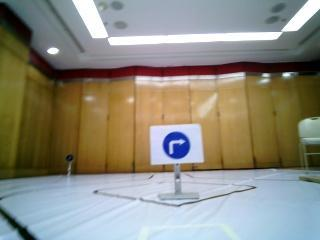right: (150, 125, 202, 162)
